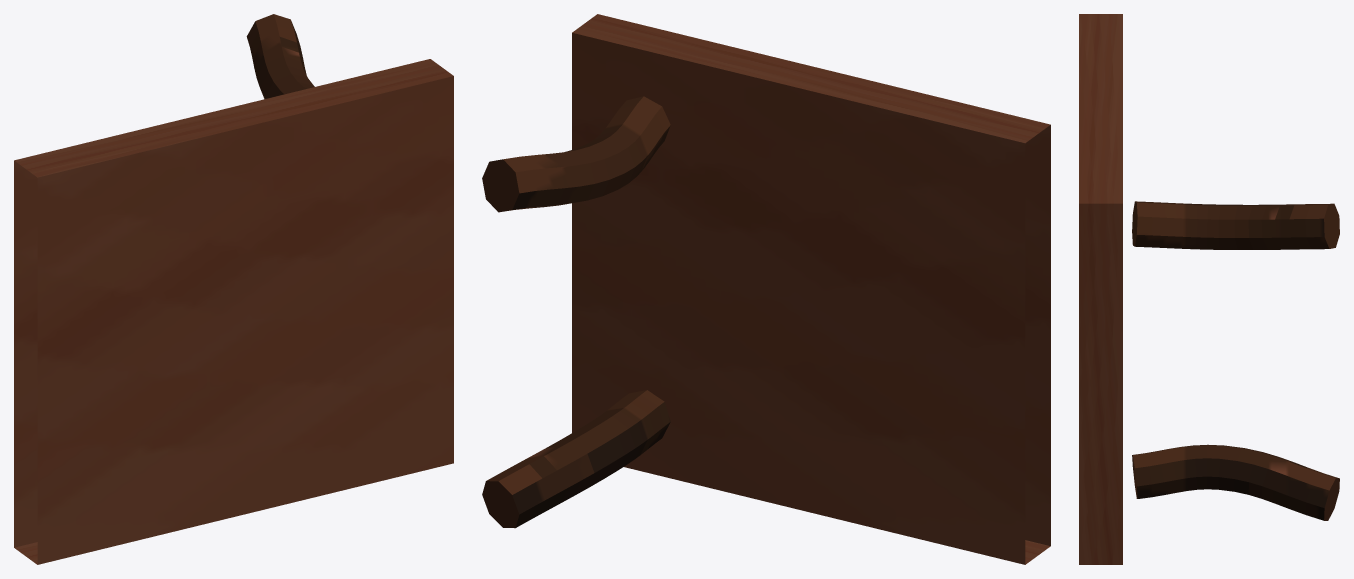
Rendered from pz_table_tables_low_01_long_fancy_1_0.obj.
3 views of the same model, side by side, from view 1: azimuth 30°, elevation 25°; view 2: azimuth 150°, elevation 25°; view 3: azimuth 270°, elevation 25° (orthographic). The views are drawn at different scales.
Bounding box in the file's own units: 0.5625 × 0.5 × 0.3272.
1 material, 1 textured.
